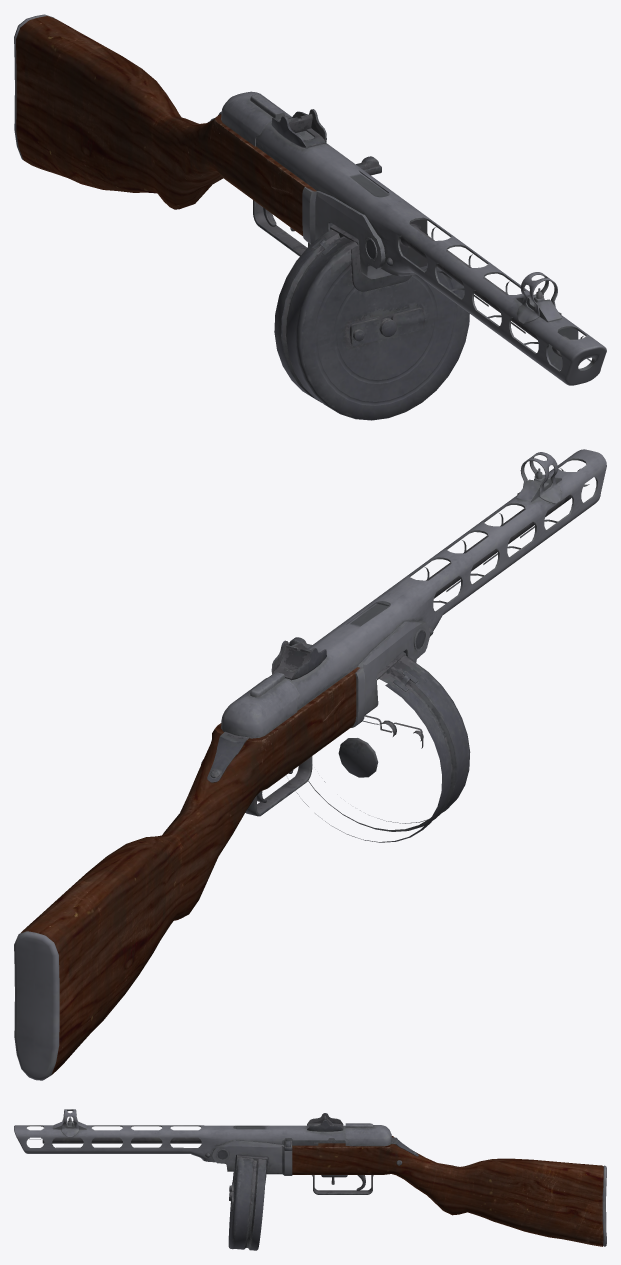
The picture shows the model from 3 angles, top to bottom: view 1: azimuth 30°, elevation 25°; view 2: azimuth 150°, elevation 25°; view 3: azimuth 270°, elevation 25°; orthographic projection. The views are drawn at different scales.
Parts seen in each view (by area): view 1: Body_PPSH; view 2: Body_PPSH; view 3: Body_PPSH.
Boxes of the visible parts, <box> form: Body_PPSH: <box>14,14,606,420</box>; Body_PPSH: <box>14,449,606,1080</box>; Body_PPSH: <box>14,1109,606,1250</box>.
Bounding box in the file's own units: 0.1498 × 0.2132 × 0.843.
1 material, 1 textured.
